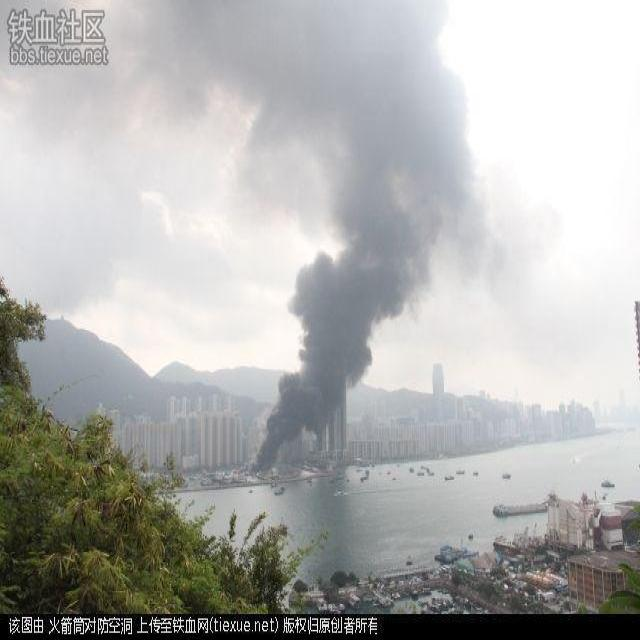Smoke: (146, 3, 476, 465)
